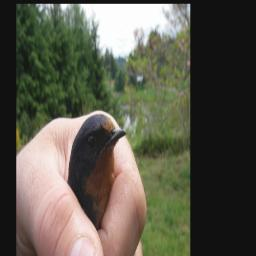Swallow: (66, 110, 128, 231)
